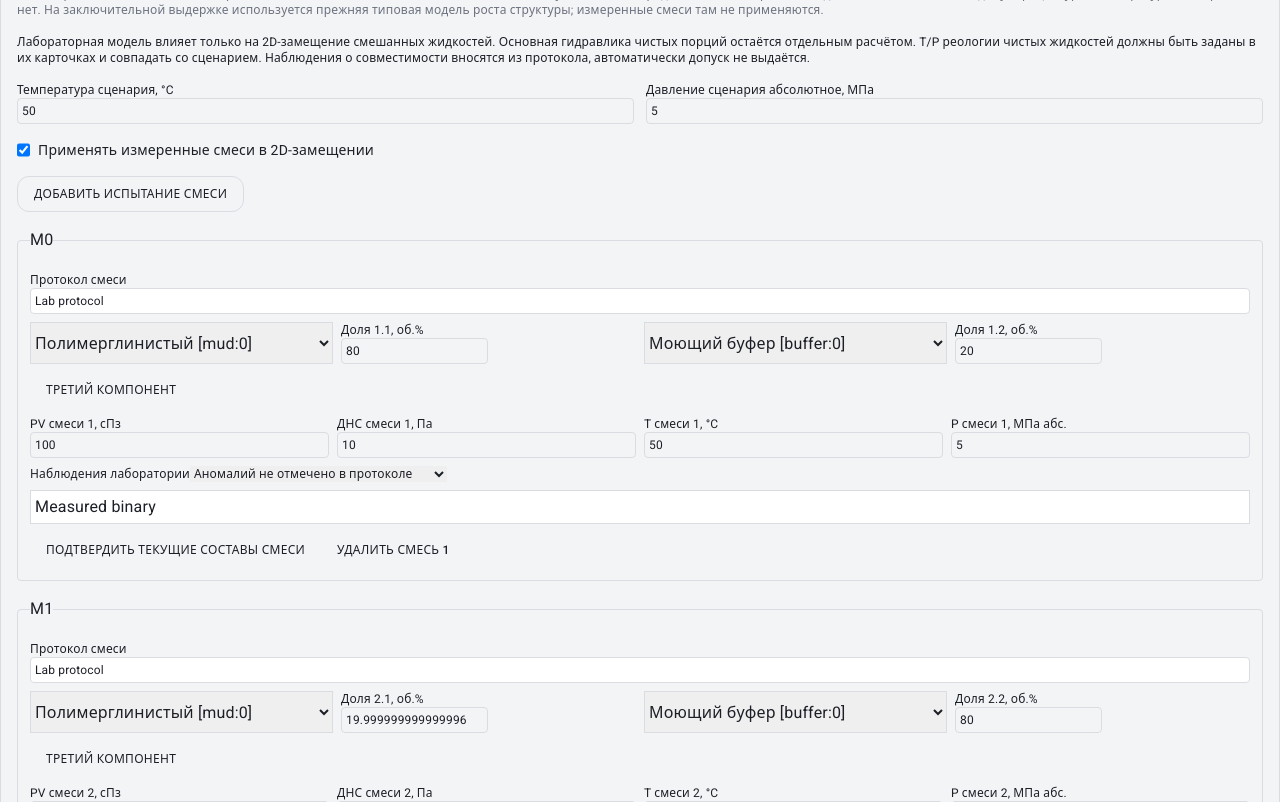
Test: retains zero measurements and saves explicit observations instead of auto-approving a protocol
This screenshot has width=1280, height=802.
Replace the text in the number field labelled "ДНС смеси 1, Па" with "0". click: (486, 445)
box: x1=337 y1=432 x2=636 y2=458
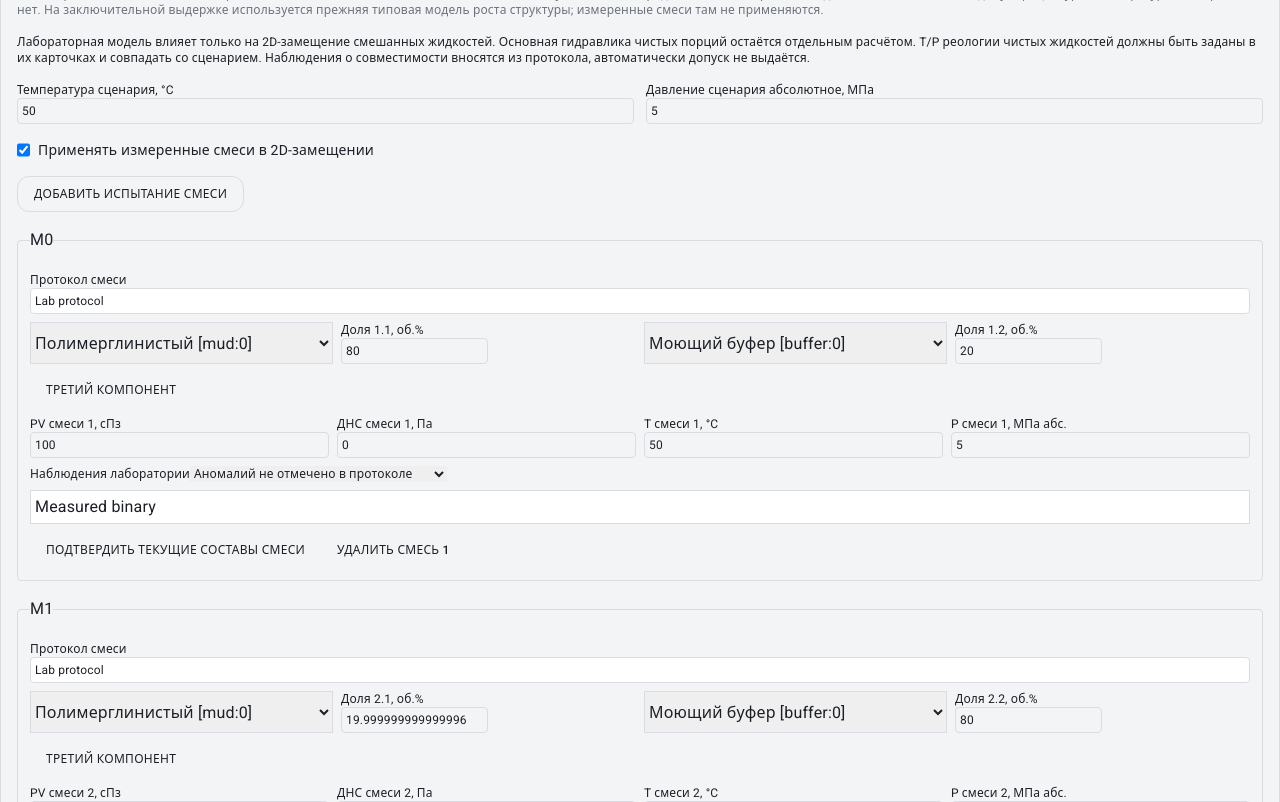
Select "Загущение, хлопья или иная аномалия" in the dropdown named "Наблюдения смеси 1". click: (318, 474)
box: x1=190 y1=466 x2=447 y2=482
(page scrolled)
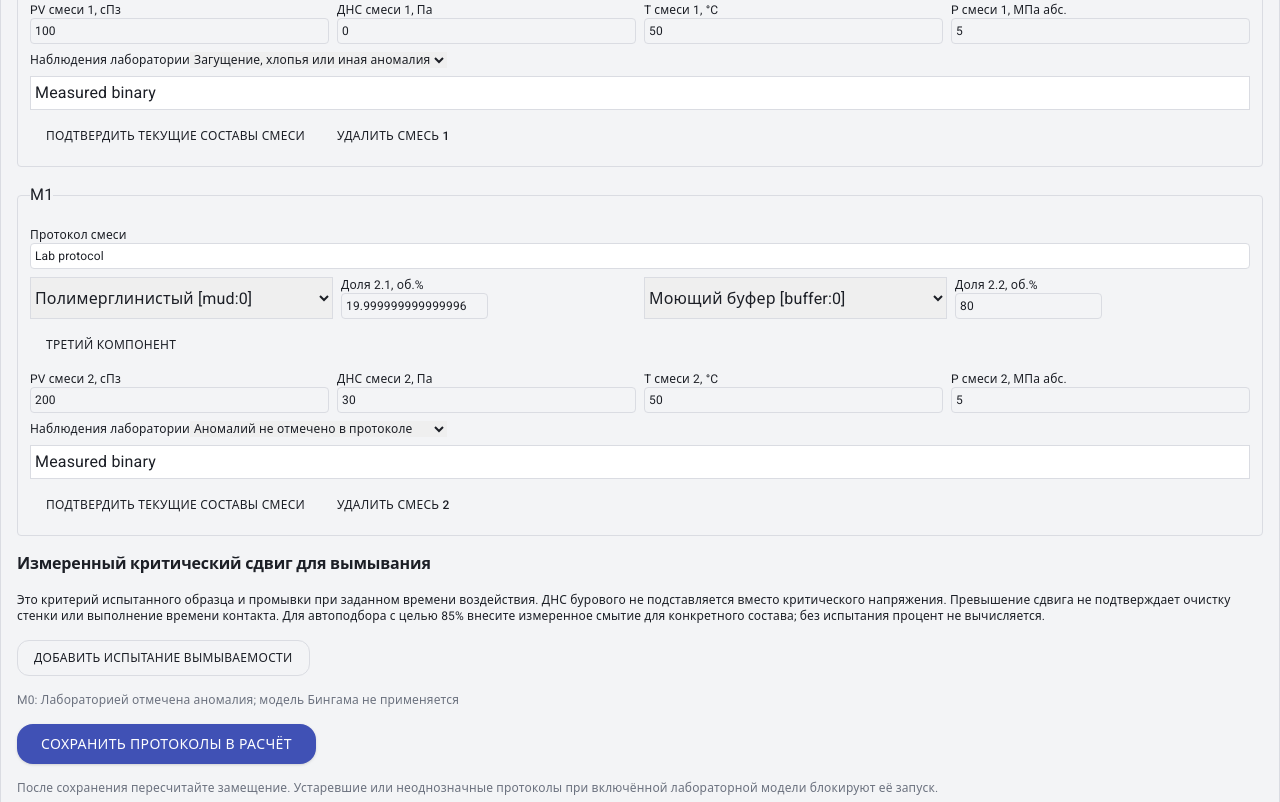
Click the button "Сохранить протоколы в расчёт". click: (166, 744)
box: x1=17 y1=724 x2=316 y2=764
(page scrolled)
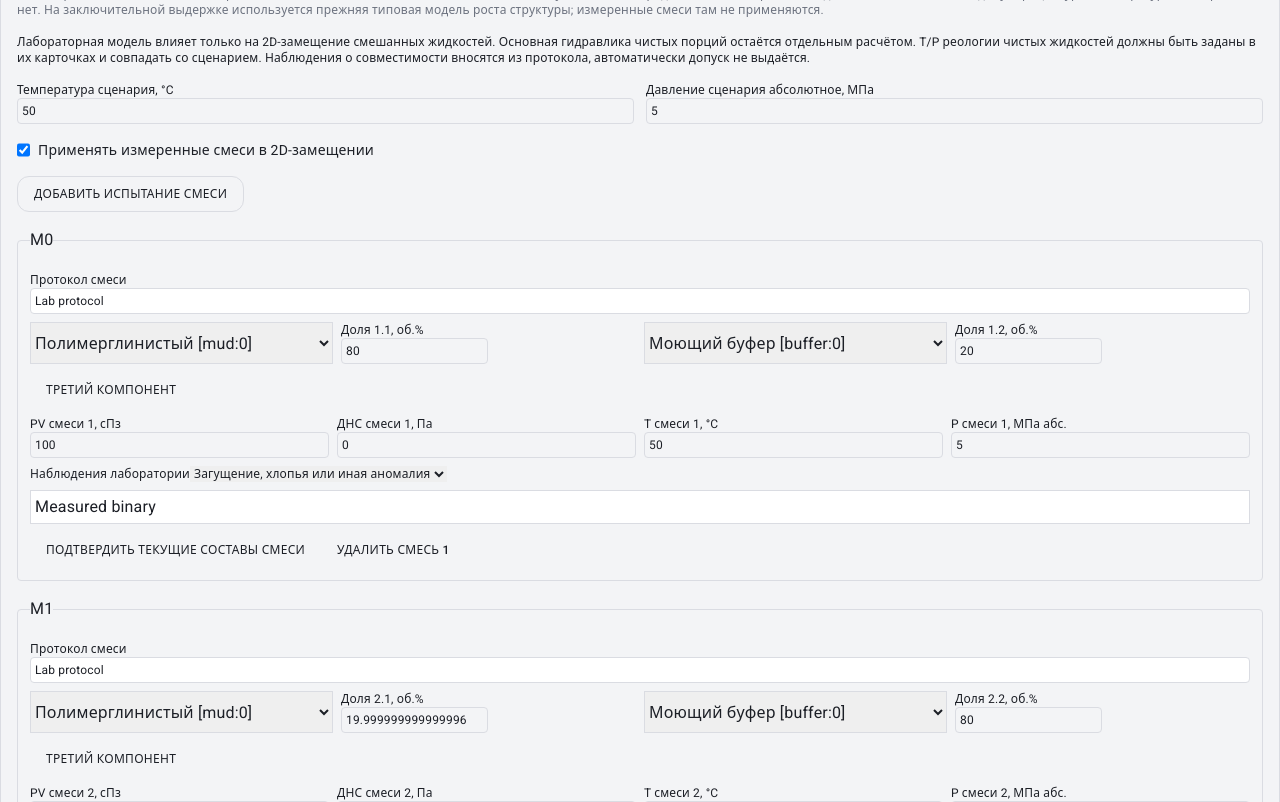
Click the button "Добавить испытание смеси". click: (131, 194)
box: x1=17 y1=176 x2=244 y2=212
(page scrolled)
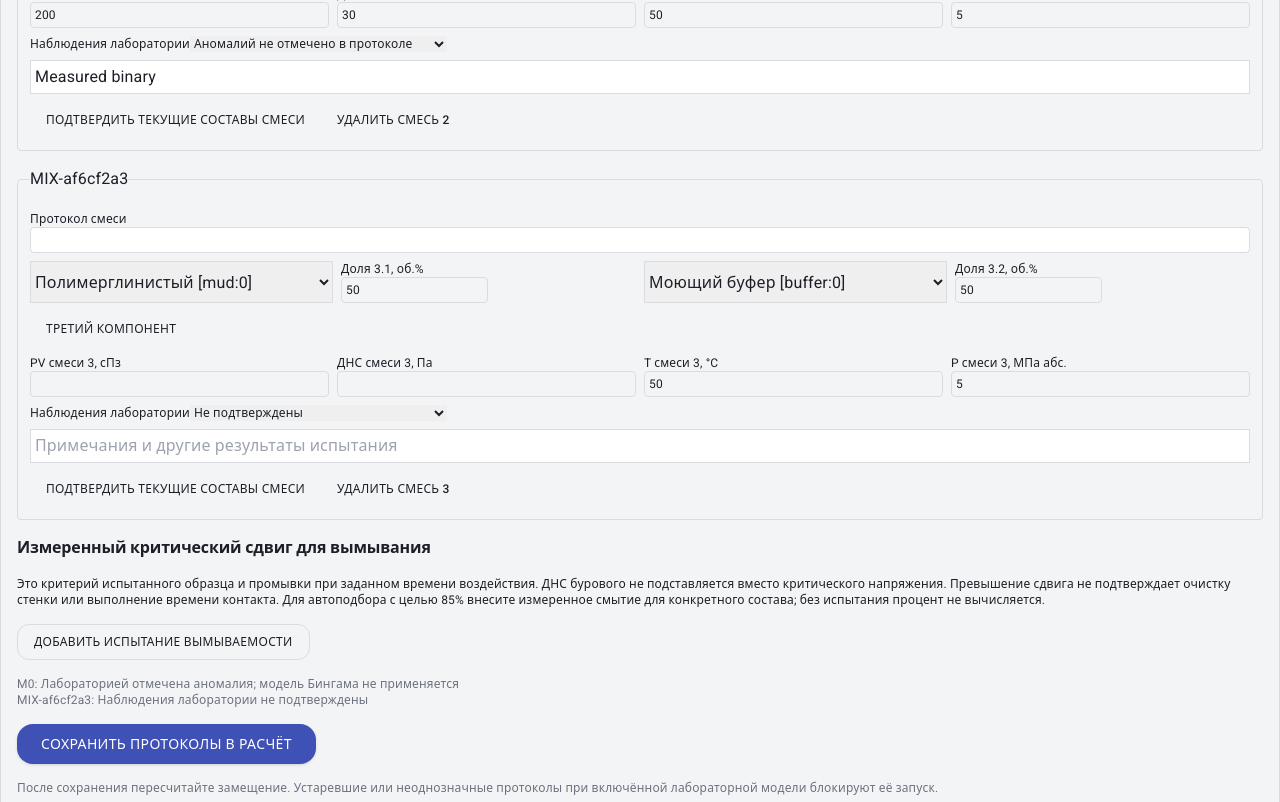
Check: the dropdown named "Наблюдения смеси 3" shows "Не подтверждены", box x1=190 y1=405 x2=447 y2=421
Click the button "Добавить испытание вымываемости". click: (163, 642)
box: x1=17 y1=624 x2=310 y2=660
(page scrolled)
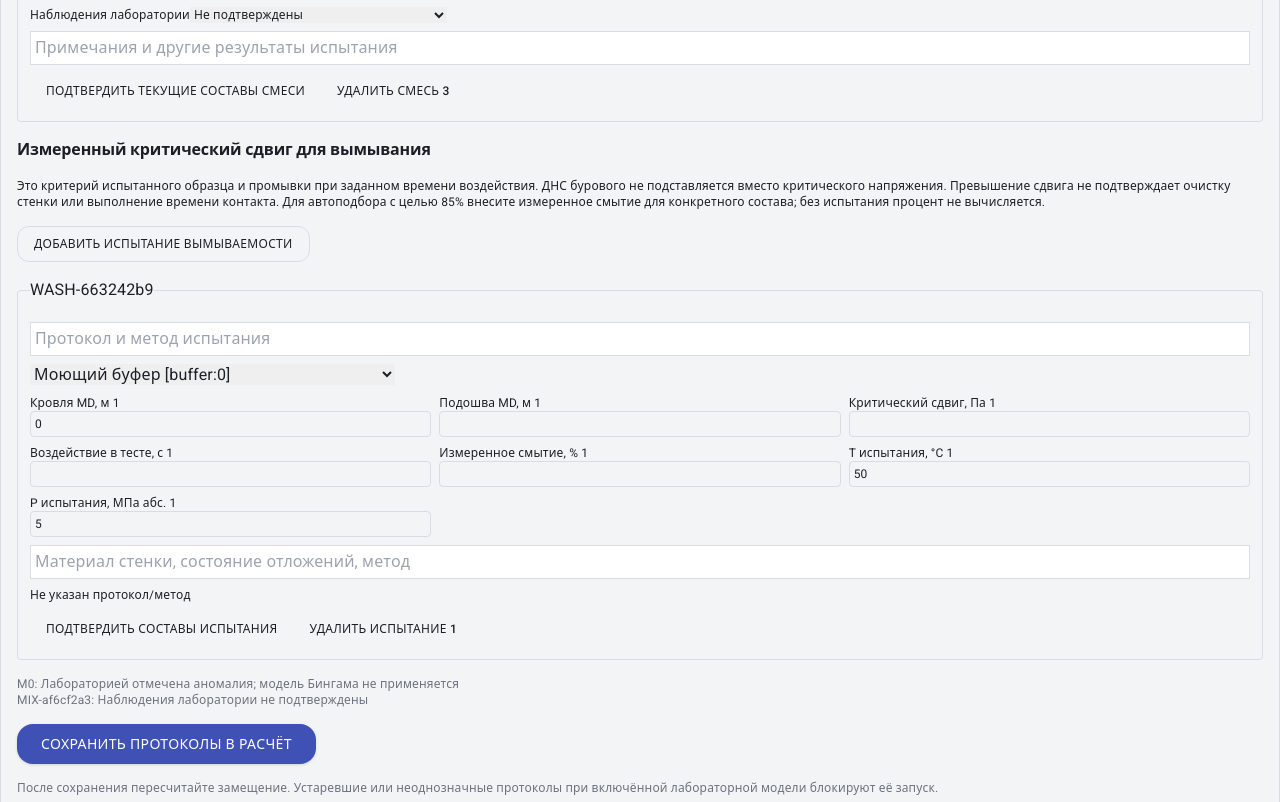
Check: the number field labelled "Критический сдвиг, Па 1" is not empty, box x1=849 y1=411 x2=1250 y2=437
